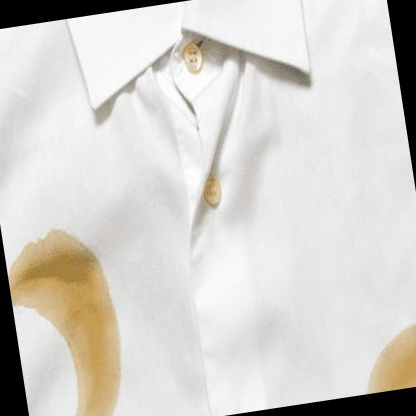coffee: (18, 241, 103, 313), (71, 314, 126, 407), (389, 330, 416, 389)
